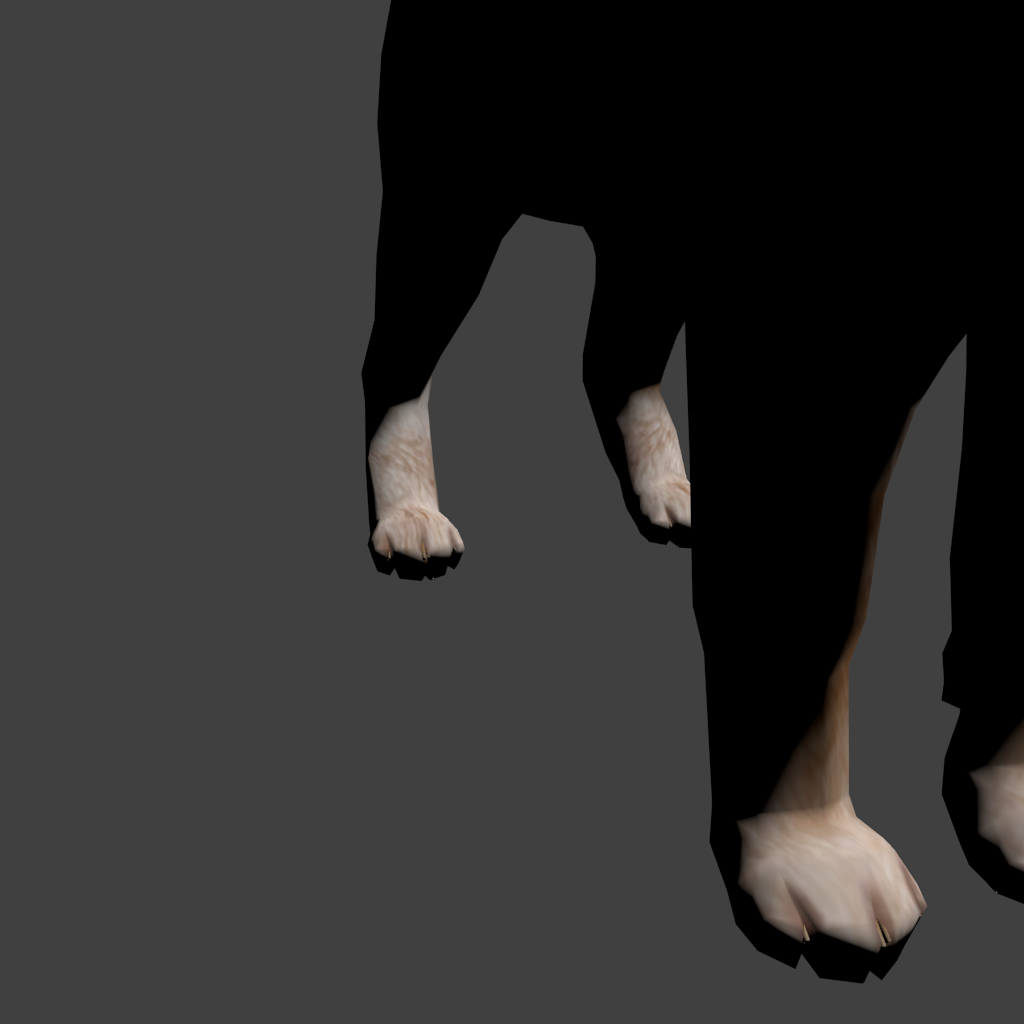Cat: (361, 0, 663, 984)
